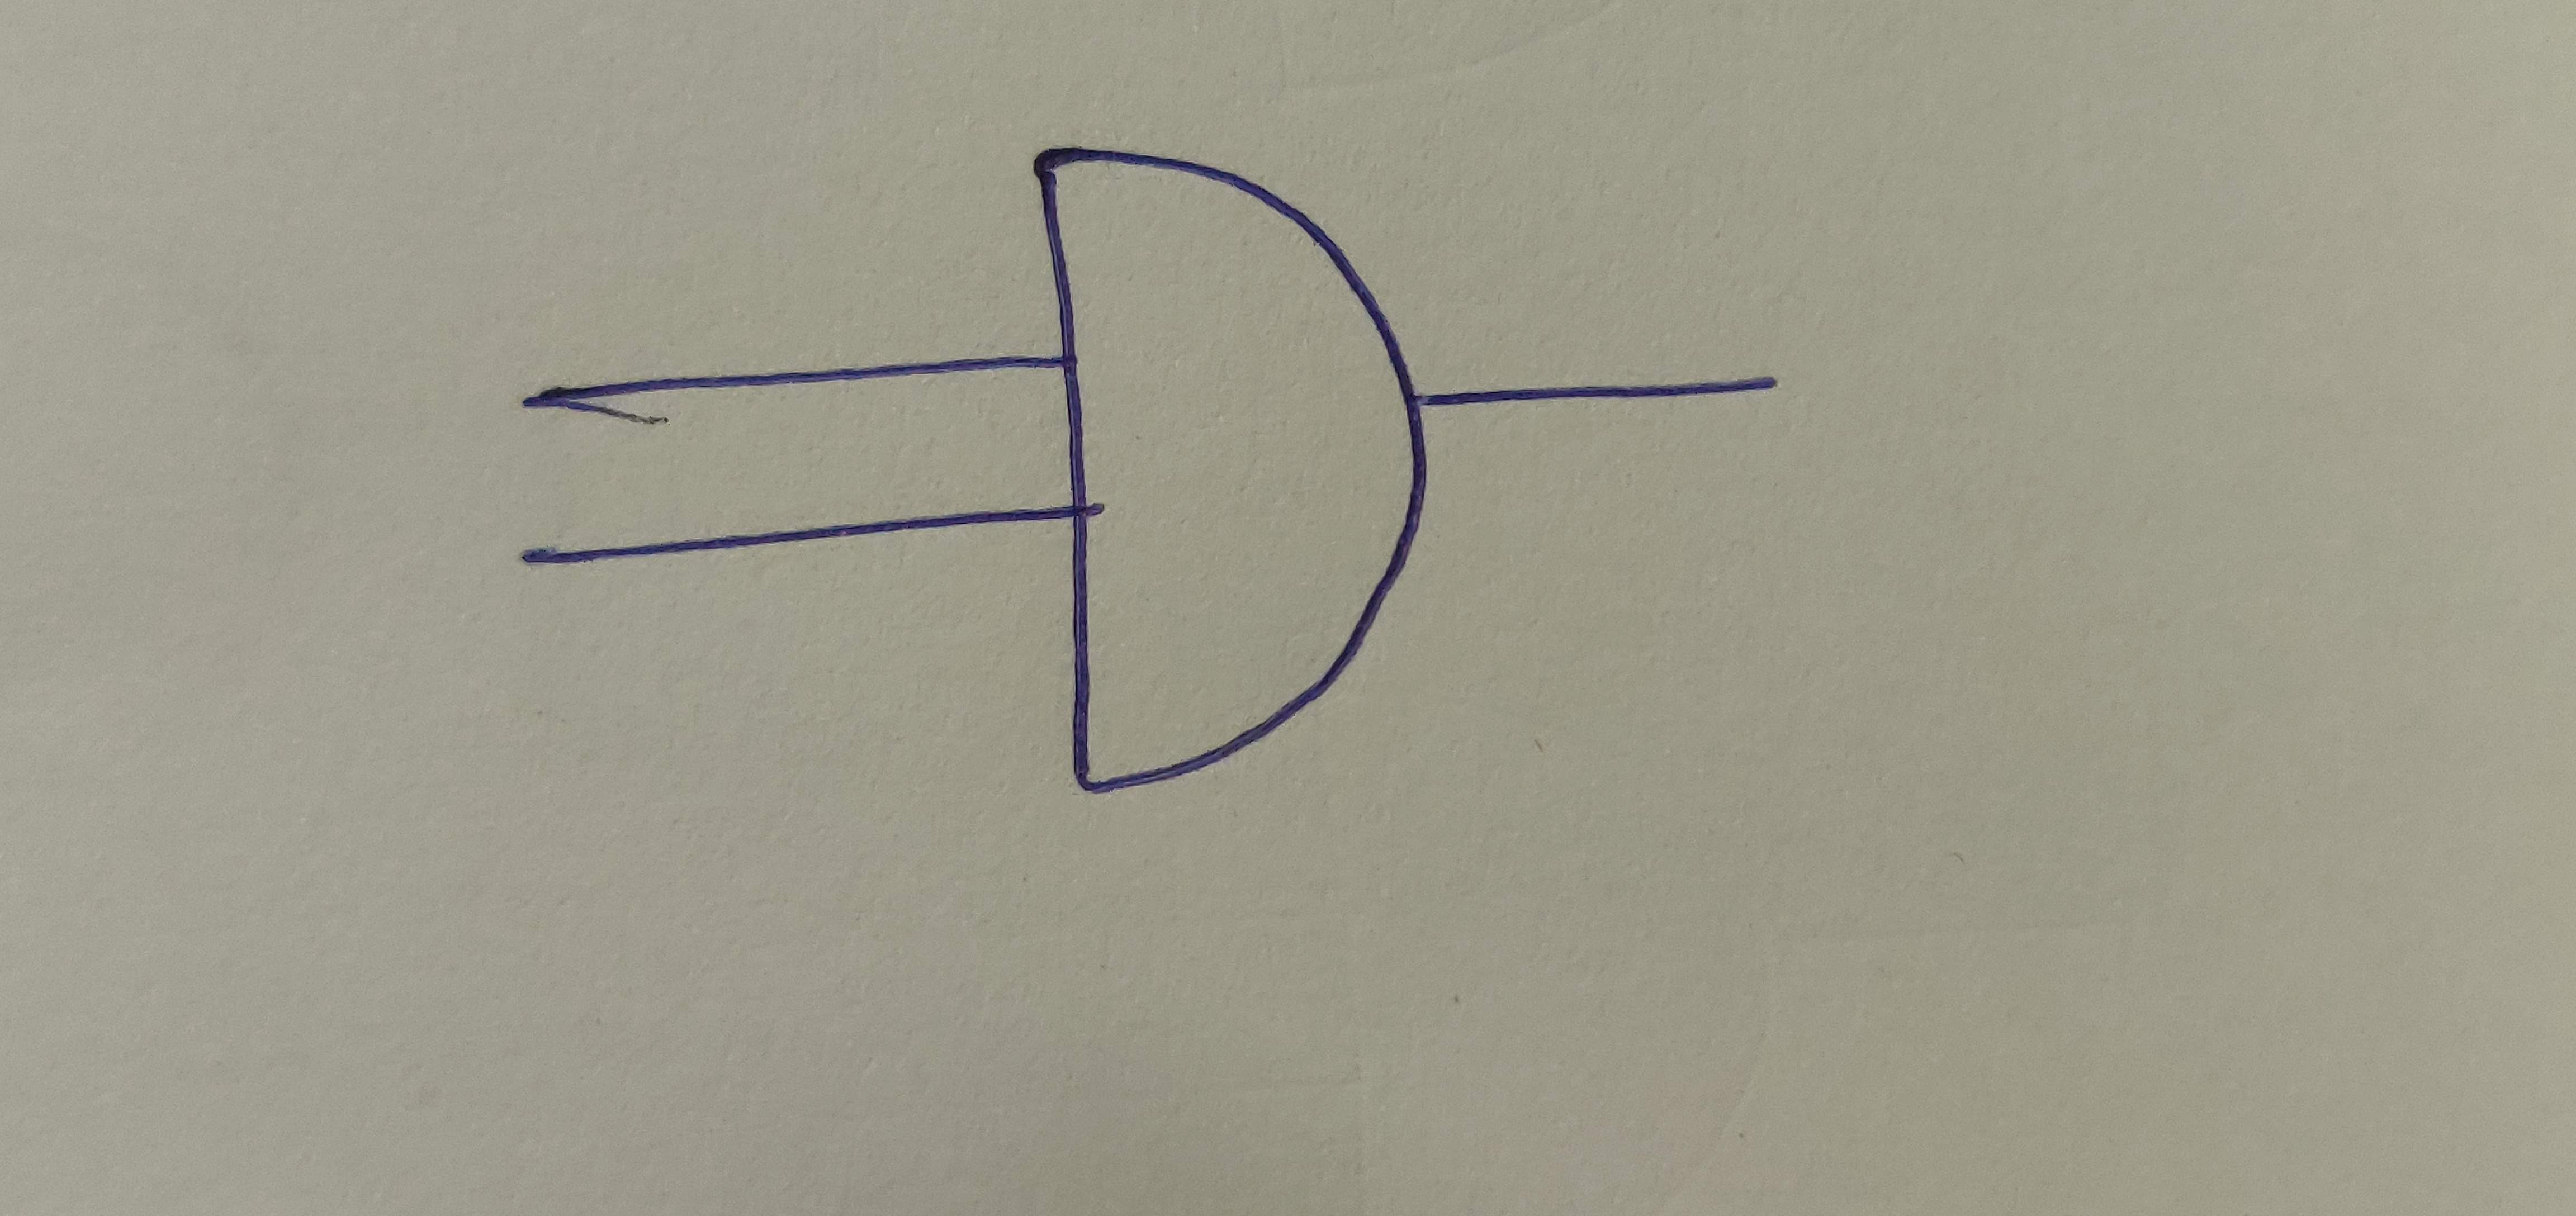and: (1032, 143, 1439, 792)
